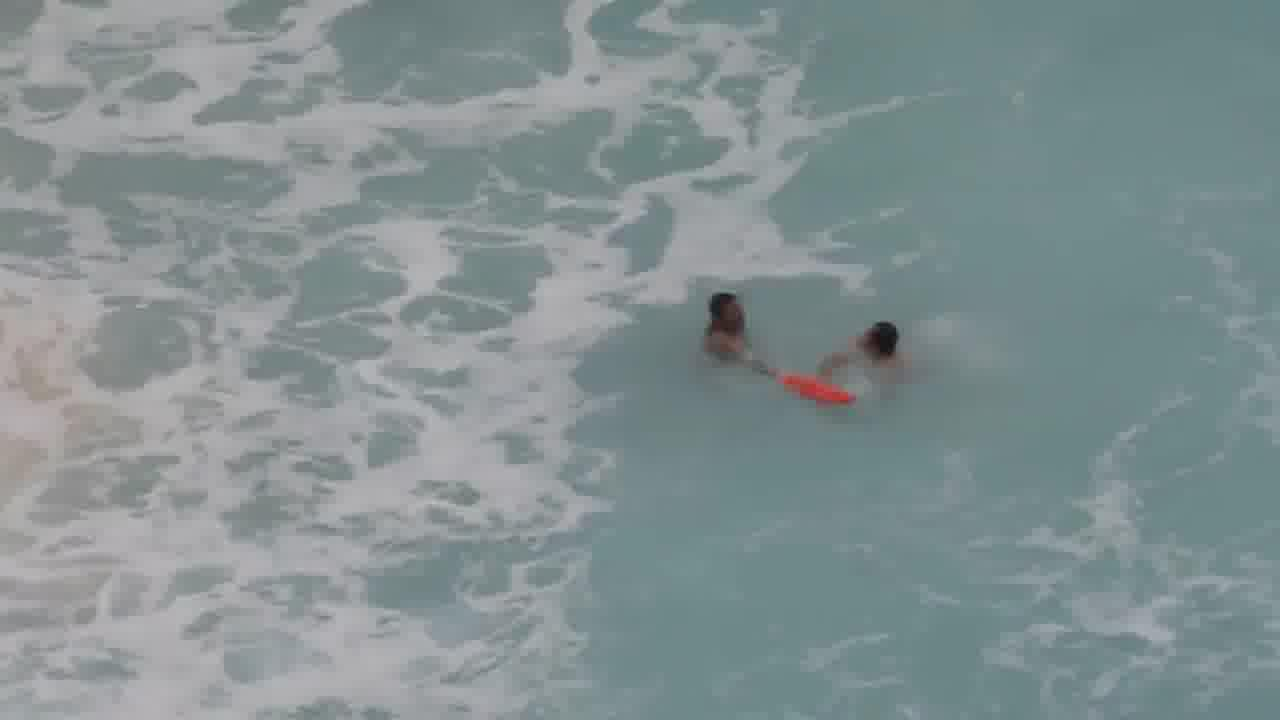human: (813, 298, 910, 406), (690, 275, 761, 376)
